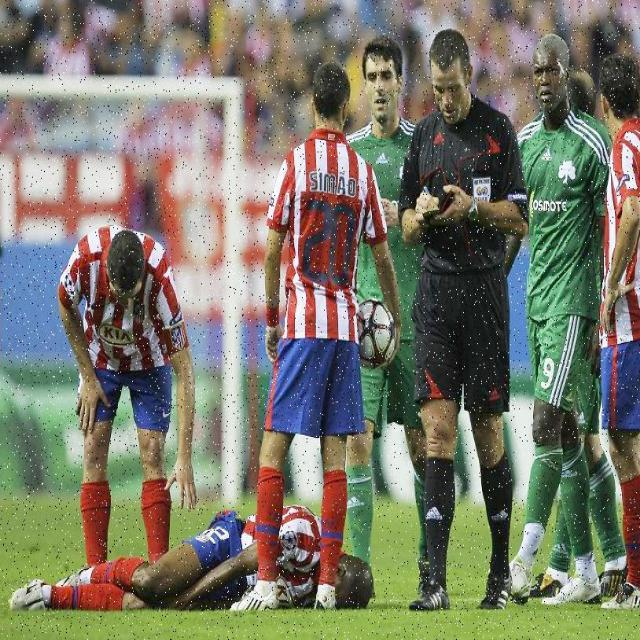fall: (12, 516, 369, 616)
